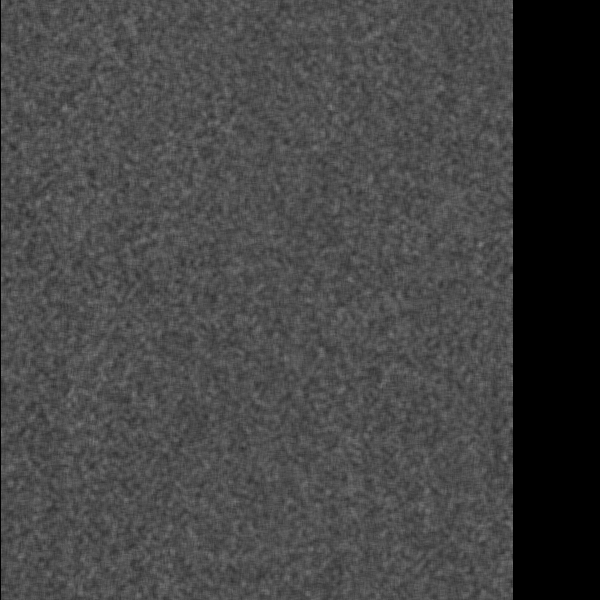spark: (400, 105, 458, 153), (263, 66, 308, 127), (52, 118, 118, 149), (163, 319, 246, 343), (247, 475, 274, 514), (48, 427, 72, 468), (177, 291, 200, 305)
